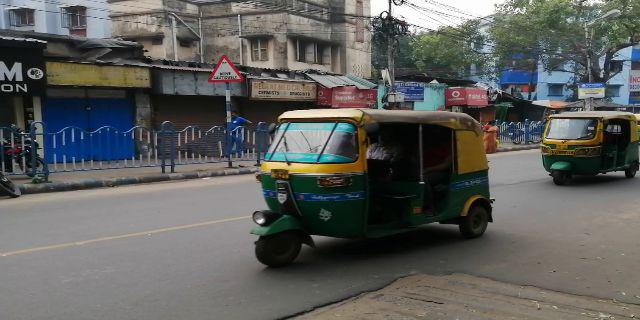Autorickshaw: (248, 107, 496, 260), (536, 115, 636, 185)
